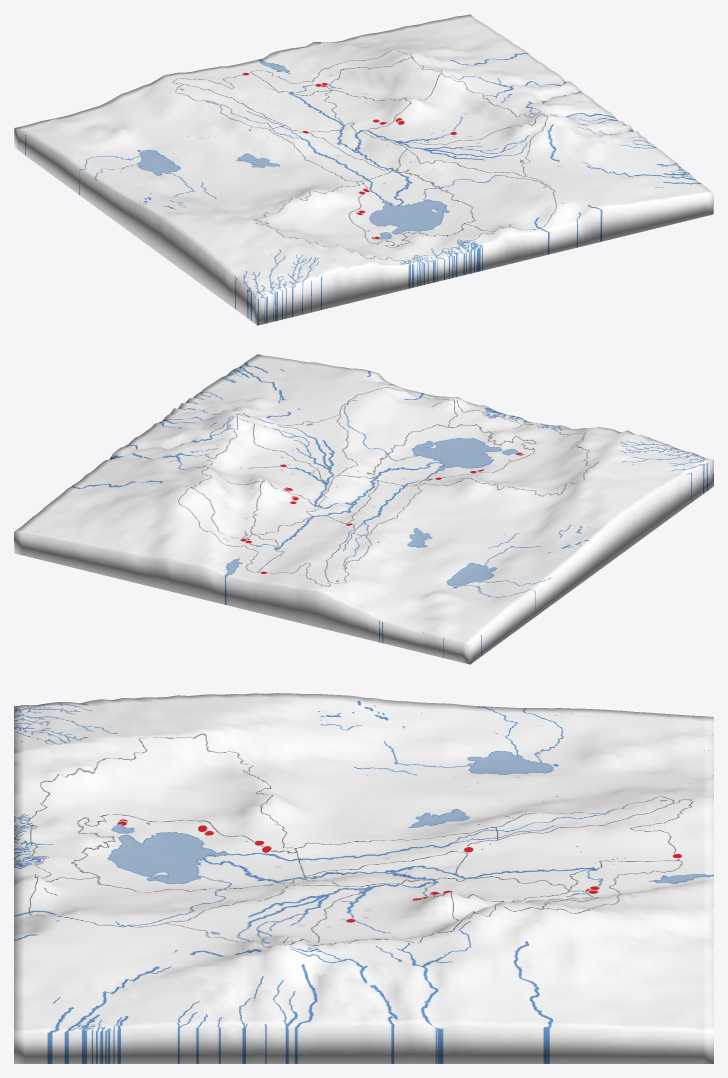
File: lake-naivasha.glb
3 renders of one model, top to bottom at view 1: azimuth 30°, elevation 25°; view 2: azimuth 150°, elevation 25°; view 3: azimuth 270°, elevation 25°, orthographic. The views are drawn at different scales.
Parts seen in each view (by area): view 1: 220413-lake-naivasha-102113; view 2: 220413-lake-naivasha-102113; view 3: 220413-lake-naivasha-102113.
Boxes of the visible parts, box(x1,y1,x2,y2) form: 220413-lake-naivasha-102113: box(14, 14, 713, 325); 220413-lake-naivasha-102113: box(14, 354, 713, 664); 220413-lake-naivasha-102113: box(14, 693, 713, 1063).
Bounding box in the file's own units: 98849 × 10648 × 91426.
Materials: 1 (1 with a texture image).
